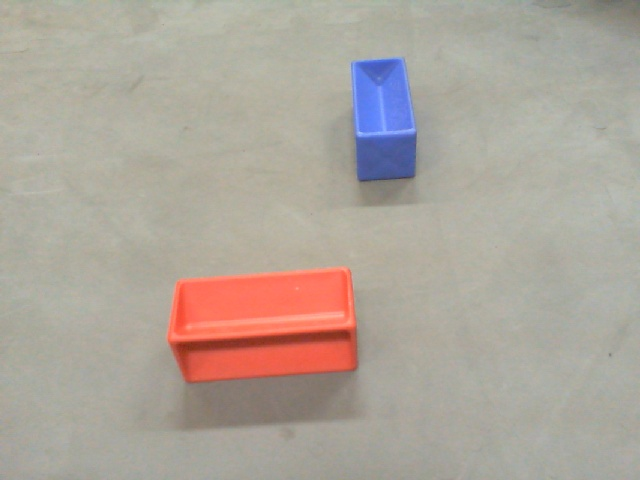BlueSample: (346, 58, 420, 185)
RedSample: (163, 264, 360, 386)
